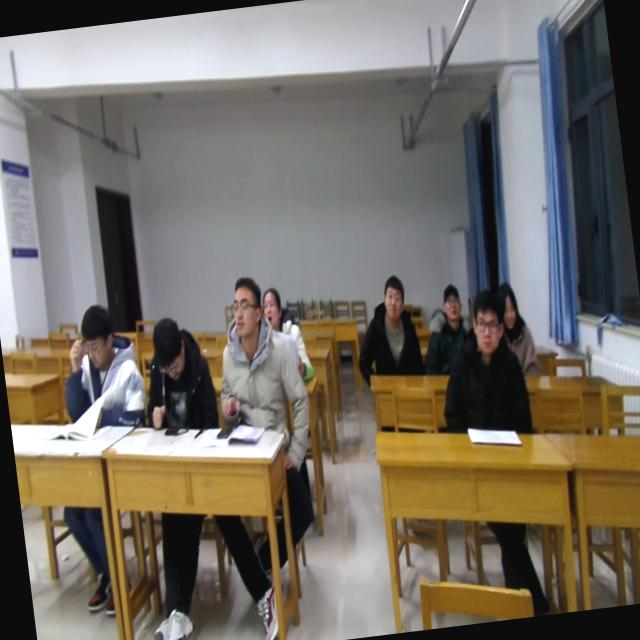down: (73, 296, 120, 374), (146, 310, 191, 386), (490, 277, 523, 335)
lookup: (464, 286, 509, 362), (222, 272, 267, 344), (376, 268, 409, 324), (258, 282, 288, 331), (436, 278, 466, 322)
sit: (204, 270, 308, 432), (429, 287, 532, 443), (50, 299, 150, 437), (132, 312, 220, 437), (346, 270, 426, 384), (415, 280, 479, 376), (488, 275, 542, 383), (260, 283, 316, 387)
